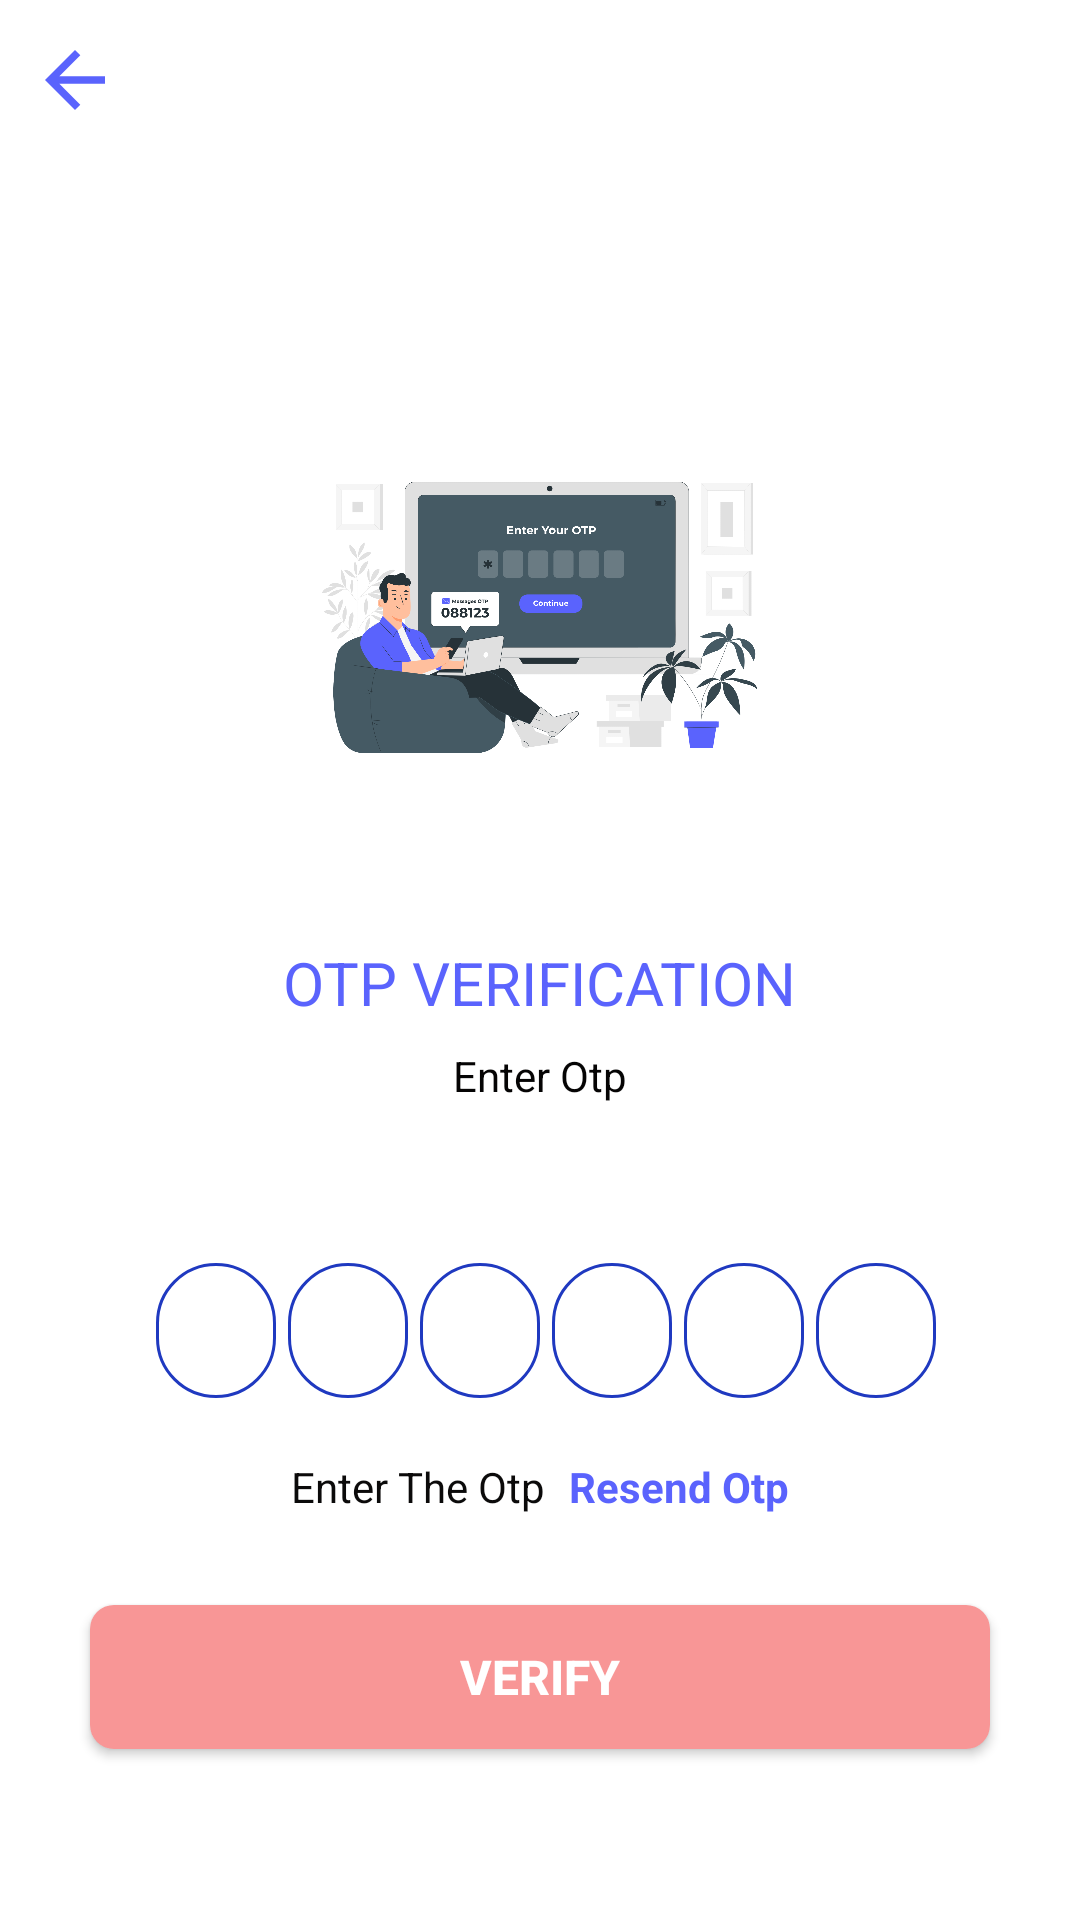

Icon click points for this 1080×1920 phone screenshot, format point (x, y):
back: point (75, 80)
